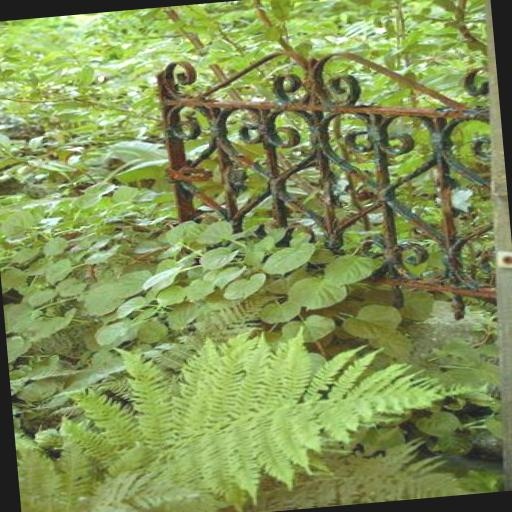corrosion: (161, 42, 478, 132), (153, 63, 196, 223), (436, 156, 458, 284), (218, 143, 270, 180), (454, 295, 463, 318)
